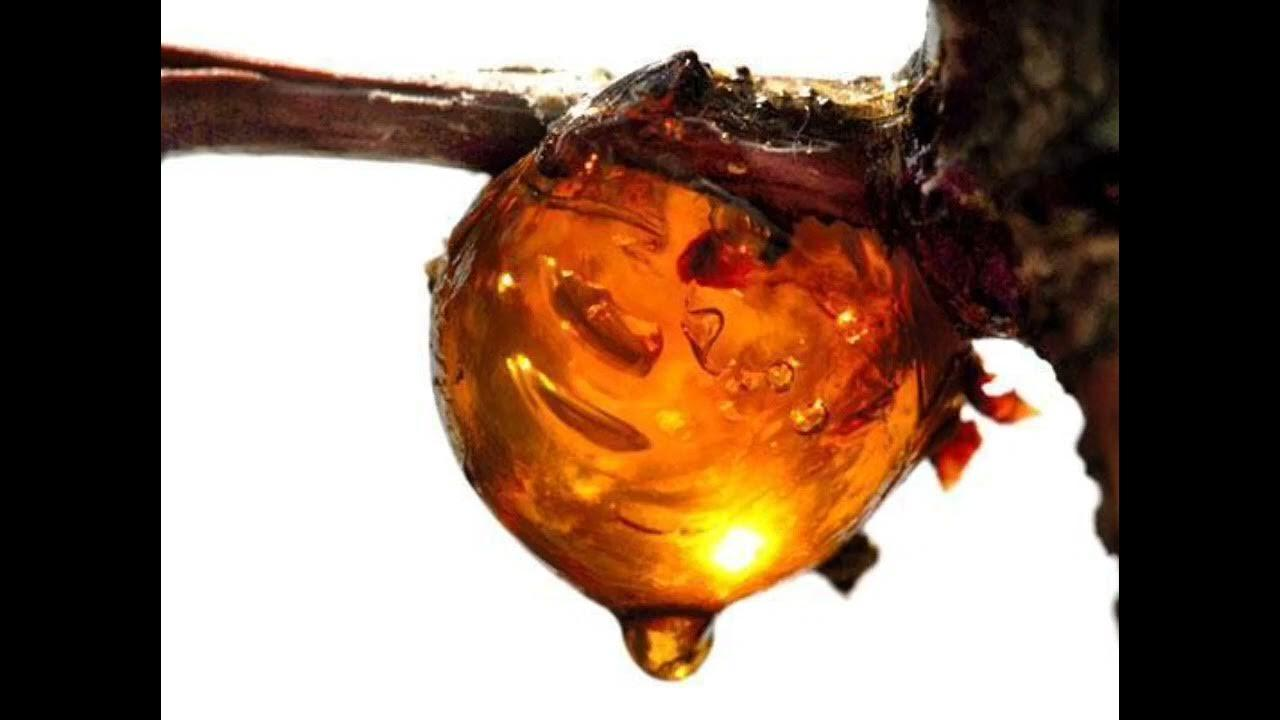gommosis: (432, 152, 967, 678)
